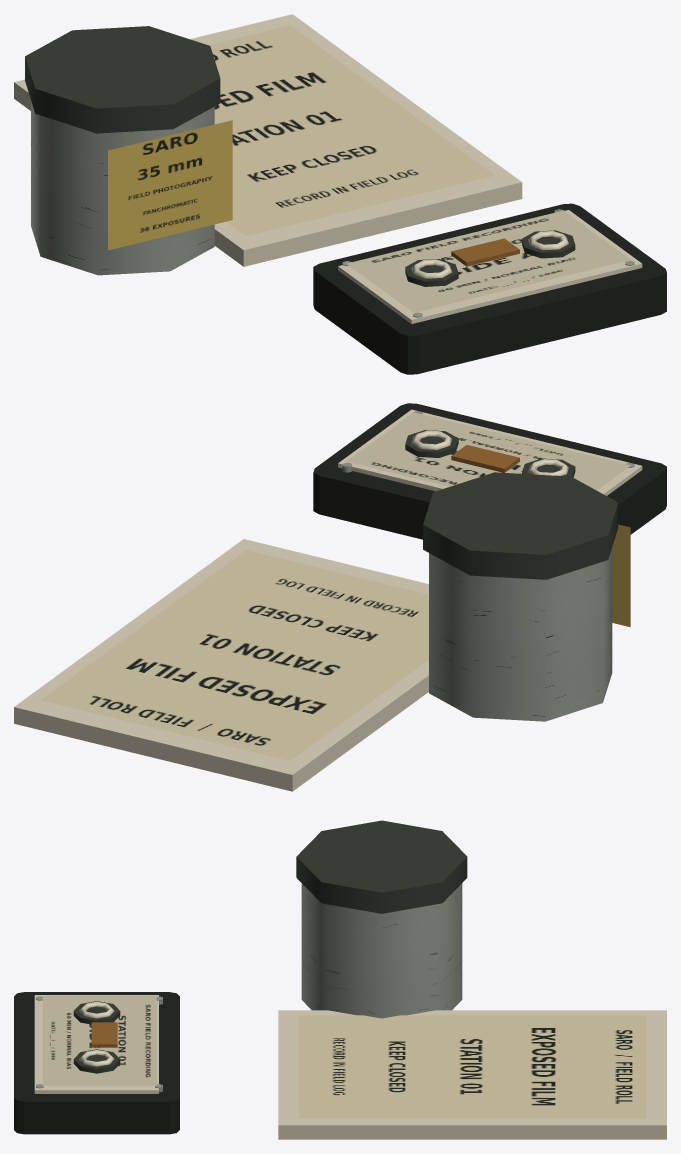
File: SM_FieldKit_EvidenceProps_LOD1.glb
3 views of the same model, one above another, from view 1: azimuth 30°, elevation 25°; view 2: azimuth 150°, elevation 25°; view 3: azimuth 270°, elevation 25° (orthographic). The views are drawn at different scales.
Parts seen in each view (by area): view 1: SM_FieldKit_EvidenceProps_LOD1; view 2: SM_FieldKit_EvidenceProps_LOD1; view 3: SM_FieldKit_EvidenceProps_LOD1.
Boxes of the visible parts, x1,y1,x2,y2 form: SM_FieldKit_EvidenceProps_LOD1: (14,14,666,374); SM_FieldKit_EvidenceProps_LOD1: (14,403,666,791); SM_FieldKit_EvidenceProps_LOD1: (14,820,666,1139).
Bounding box in the file's own units: 0.1605 × 0.061 × 0.252.
Materials: 6 (2 with a texture image).
